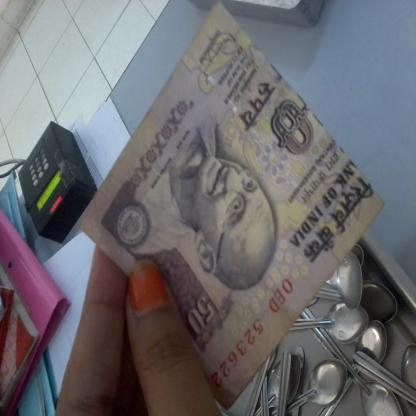Old50Front: (79, 0, 385, 411)
